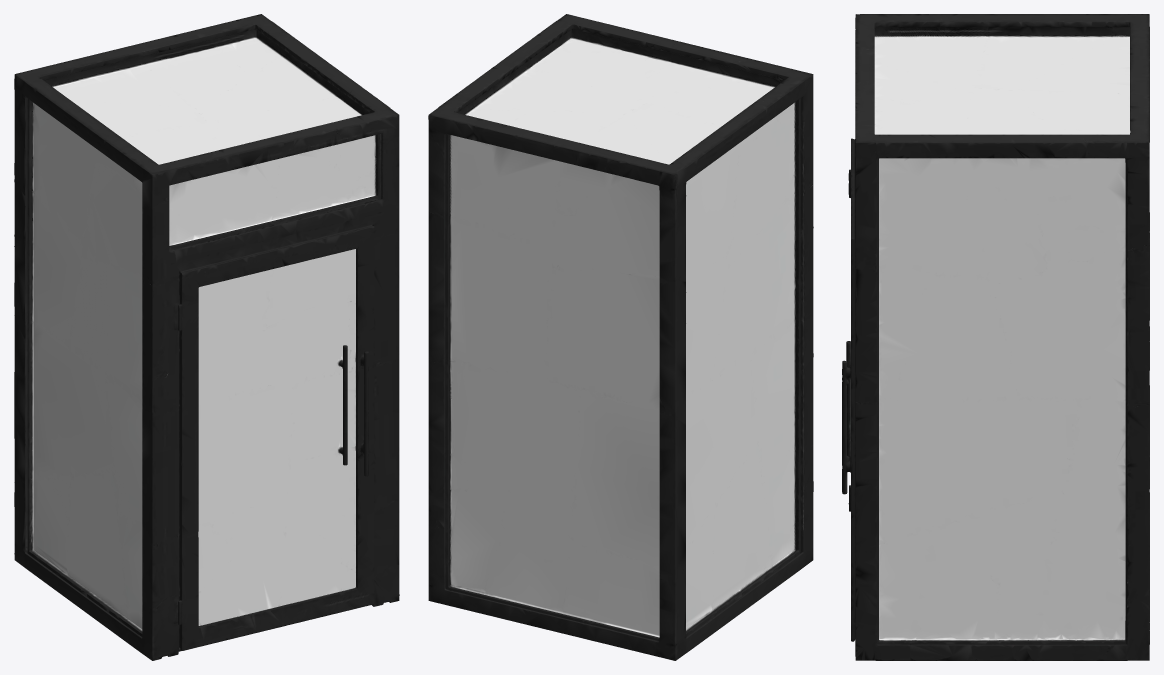
Rendered from entrada.glb.
3 views of the same model, side by side, from view 1: azimuth 30°, elevation 25°; view 2: azimuth 150°, elevation 25°; view 3: azimuth 270°, elevation 25° (orthographic). The views are drawn at different scales.
Size of the model in its own units: 1.01 by 1.9 by 1.02.
1 material, 1 textured.
